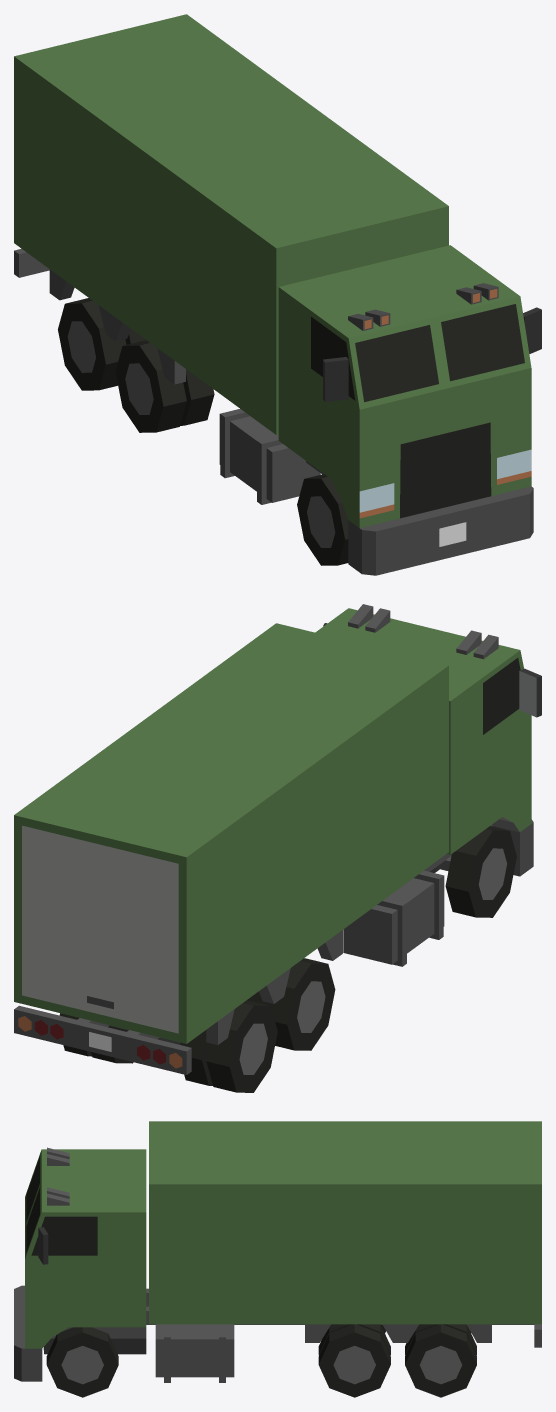
The model's file is Veh_Truck_03_Green.glb.
3 views of the same model, one above another, from view 1: azimuth 30°, elevation 25°; view 2: azimuth 150°, elevation 25°; view 3: azimuth 270°, elevation 25° (orthographic). The views are drawn at different scales.
Visible parts, largest first — view 1: Truck_03_Green, Wheel_RR1, Wheel_RR2, Wheel_FR; view 2: Truck_03_Green, Wheel_RR2, Wheel_FR, Wheel_RR1; view 3: Truck_03_Green, Wheel_RL1, Wheel_RL2, Wheel_FL.
Boxes of the visible parts, bbox=[...] form: Truck_03_Green: bbox=[14, 14, 541, 575]; Wheel_RR1: bbox=[115, 340, 214, 432]; Wheel_RR2: bbox=[58, 298, 146, 390]; Wheel_FR: bbox=[297, 474, 348, 565]; Truck_03_Green: bbox=[14, 604, 541, 1074]; Wheel_RR2: bbox=[180, 1000, 277, 1092]; Wheel_FR: bbox=[445, 826, 516, 917]; Wheel_RR1: bbox=[247, 958, 335, 1050]; Truck_03_Green: bbox=[14, 1121, 541, 1382]; Wheel_RL1: bbox=[318, 1324, 390, 1397]; Wheel_RL2: bbox=[405, 1324, 476, 1397]; Wheel_FL: bbox=[46, 1327, 118, 1397].
Size of the model in its own units: 1.68 by 2.11 by 4.74.
Materials: 1 (1 with a texture image).
